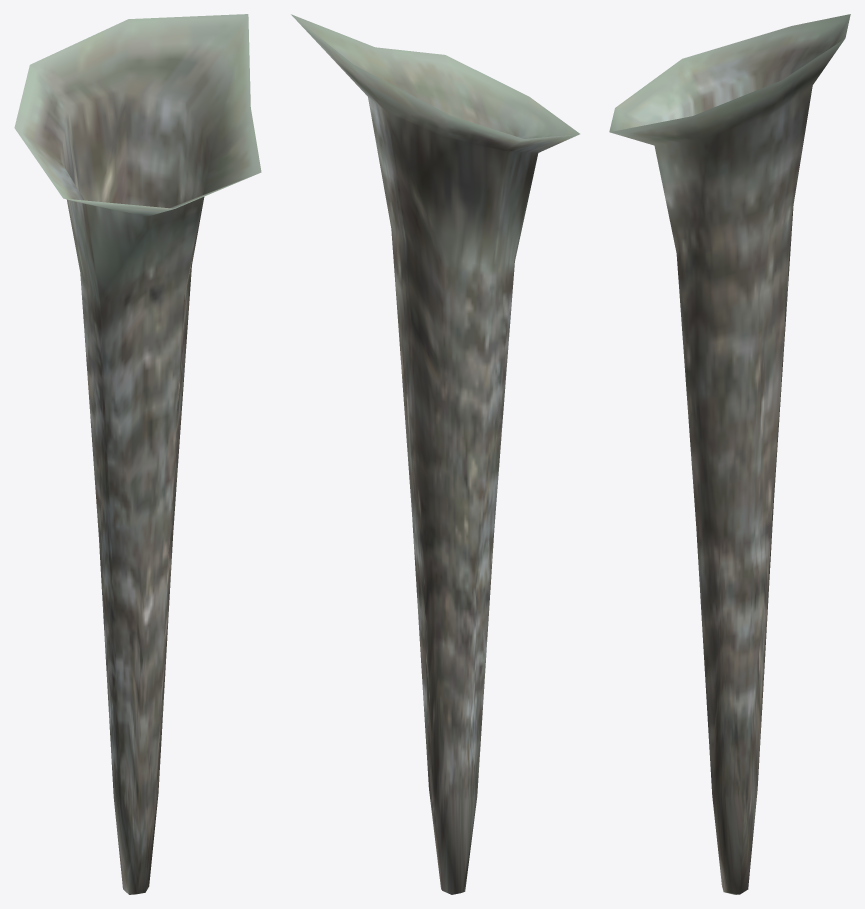
Rendered from TROLLHOLE02_PS-MAINSTALAG31.fbx.
3 views of the same model, side by side, from view 1: azimuth 30°, elevation 25°; view 2: azimuth 150°, elevation 25°; view 3: azimuth 270°, elevation 25° (orthographic). The views are drawn at different scales.
Visible parts, largest first — view 1: TROLLHOLE02_PS-MAINSTALAG31; view 2: TROLLHOLE02_PS-MAINSTALAG31; view 3: TROLLHOLE02_PS-MAINSTALAG31.
Boxes of the visible parts, <box> form: TROLLHOLE02_PS-MAINSTALAG31: <box>14,14,261,894</box>; TROLLHOLE02_PS-MAINSTALAG31: <box>291,14,579,894</box>; TROLLHOLE02_PS-MAINSTALAG31: <box>609,14,850,894</box>.
Size of the model in its own units: 10735 by 36710 by 9082.
Materials: 1 (1 with a texture image).
